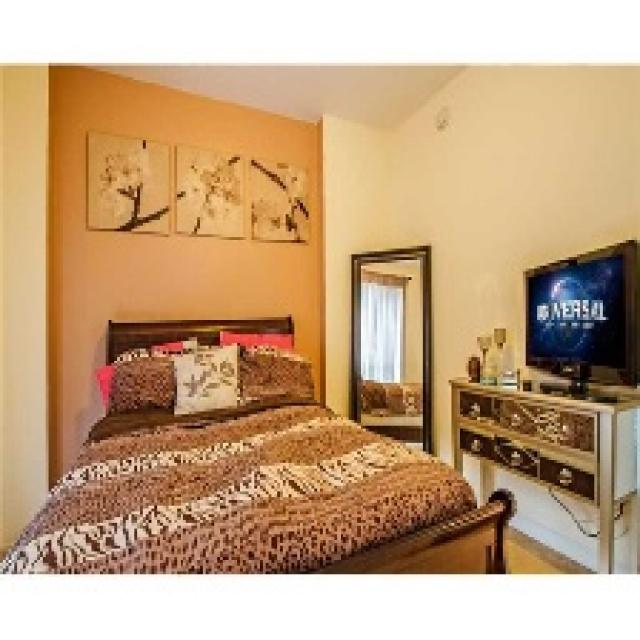Bed: (0, 314, 514, 574)
